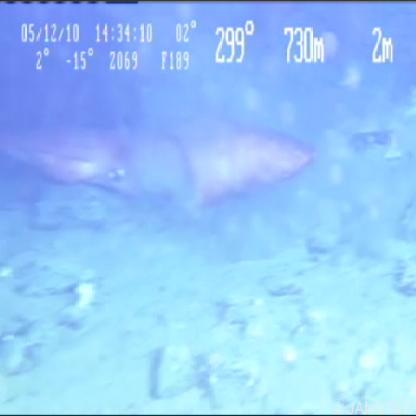Bio: (1, 110, 323, 212)
